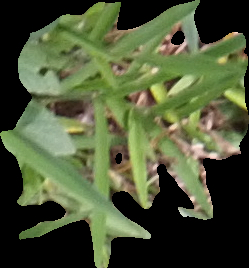grass: (1, 1, 246, 267)
